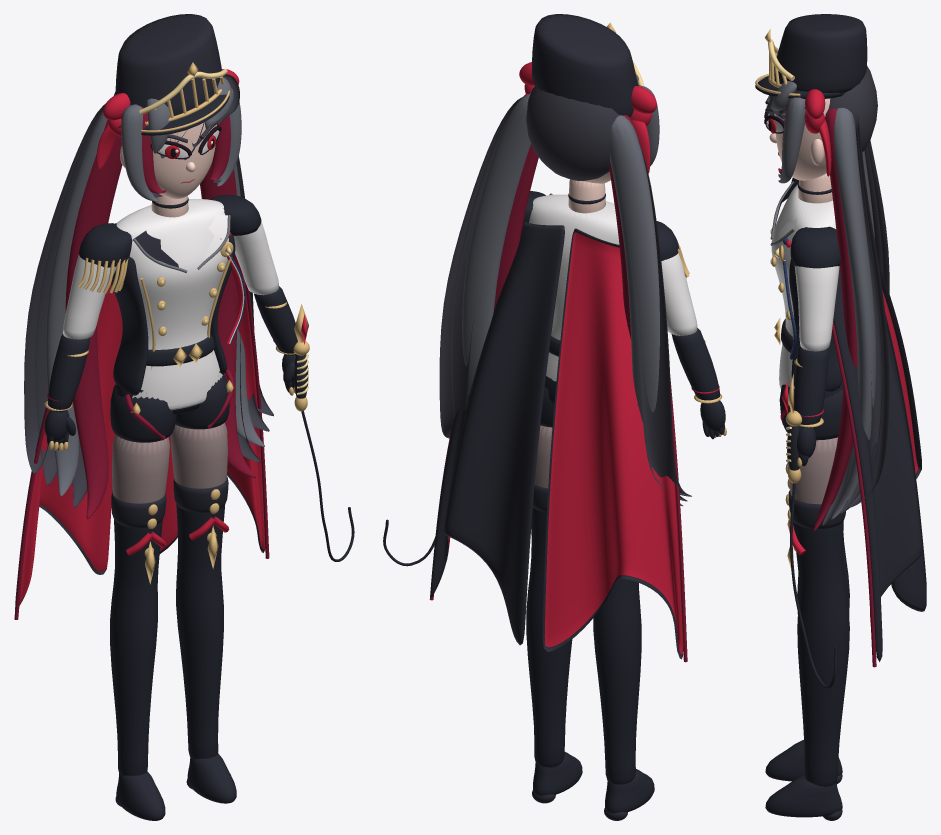
File: gordia-static.glb
3 renders of one model, left to right at view 1: azimuth 30°, elevation 25°; view 2: azimuth 150°, elevation 25°; view 3: azimuth 270°, elevation 25°, orthographic. The views are drawn at different scales.
Parts seen in each view (by area): view 1: Jacket • fitted ivory tunic, Boots • tall fitted shaft, Boots • tall fitted shaft.001, UNVERIFIED_Cape • lined mantle, Cap • angled crown, Hair • long tapered layer, Hair • long tapered layer.002, UNVERIFIED_Cape • lined mantle.001, Stockings • thigh, Jacket • black side gore, Stockings • thigh.001, Hair • long tapered layer.004 (+27 smaller); view 2: UNVERIFIED_Cape • lined mantle, UNVERIFIED_Cape • lined mantle.001, Hair • long tapered layer.002, Hair • long tapered layer.007, Cap • angled crown, Boots • tall fitted shaft, Boots • tall fitted shaft.001, UNVERIFIED_Hair • occipital mass, Hair • long tapered layer.009, Hair • long tapered layer.004, Jacket • fitted ivory tunic, Sleeve • tailored (+10 smaller); view 3: UNVERIFIED_Cape • lined mantle.001, Boots • tall fitted shaft.001, Hair • long tapered layer.007, Cap • angled crown, Hair • long tapered layer.005, Hair • long tapered layer.009, Sleeve • tailored.001, Jacket • fitted ivory tunic, UNVERIFIED_Cape • lined mantle, UNVERIFIED_Boots • toe and sole.001, Gauntlet • articulated bracer.001, Shoulder • epaulette.001 (+22 smaller).
Part boxes in pixels (x1,y1,x2,y2): Jacket • fitted ivory tunic: [116, 199, 228, 410]; Boots • tall fitted shaft: [110, 519, 162, 775]; Boots • tall fitted shaft.001: [176, 504, 224, 759]; UNVERIFIED_Cape • lined mantle: [15, 284, 122, 609]; Cap • angled crown: [115, 14, 221, 115]; Hair • long tapered layer: [65, 119, 122, 519]; Hair • long tapered layer.002: [46, 112, 107, 496]; UNVERIFIED_Cape • lined mantle.001: [159, 254, 265, 553]; Stockings • thigh: [112, 435, 169, 503]; Jacket • black side gore: [111, 256, 148, 395]; Stockings • thigh.001: [170, 422, 227, 488]; Hair • long tapered layer.004: [24, 104, 105, 473]; UNVERIFIED_Cape • lined mantle: [542, 228, 683, 659]; UNVERIFIED_Cape • lined mantle.001: [430, 221, 564, 645]; Hair • long tapered layer.002: [609, 115, 682, 506]; Hair • long tapered layer.007: [462, 93, 530, 395]; Cap • angled crown: [532, 14, 637, 116]; Boots • tall fitted shaft: [593, 579, 641, 784]; Boots • tall fitted shaft.001: [526, 507, 572, 768]; UNVERIFIED_Hair • occipital mass: [526, 85, 619, 180]; Hair • long tapered layer.009: [439, 96, 524, 438]; Hair • long tapered layer.004: [621, 136, 691, 496]; Jacket • fitted ivory tunic: [529, 194, 619, 381]; Sleeve • tailored: [661, 253, 697, 335]; UNVERIFIED_Cape • lined mantle.001: [833, 266, 926, 661]; Boots • tall fitted shaft.001: [793, 521, 849, 787]; Hair • long tapered layer.007: [831, 107, 875, 519]; Cap • angled crown: [774, 14, 867, 93]; Hair • long tapered layer.005: [813, 108, 857, 531]; Hair • long tapered layer.009: [849, 111, 889, 507]; Sleeve • tailored.001: [794, 266, 839, 351]; Jacket • fitted ivory tunic: [771, 184, 836, 389]; UNVERIFIED_Cape • lined mantle: [878, 261, 926, 591]; UNVERIFIED_Boots • toe and sole.001: [765, 774, 842, 817]; Gauntlet • articulated bracer.001: [794, 346, 828, 428]; Shoulder • epaulette.001: [790, 226, 840, 268].
Bounding box in the file's own units: 3.44 × 7.87 × 1.55.
